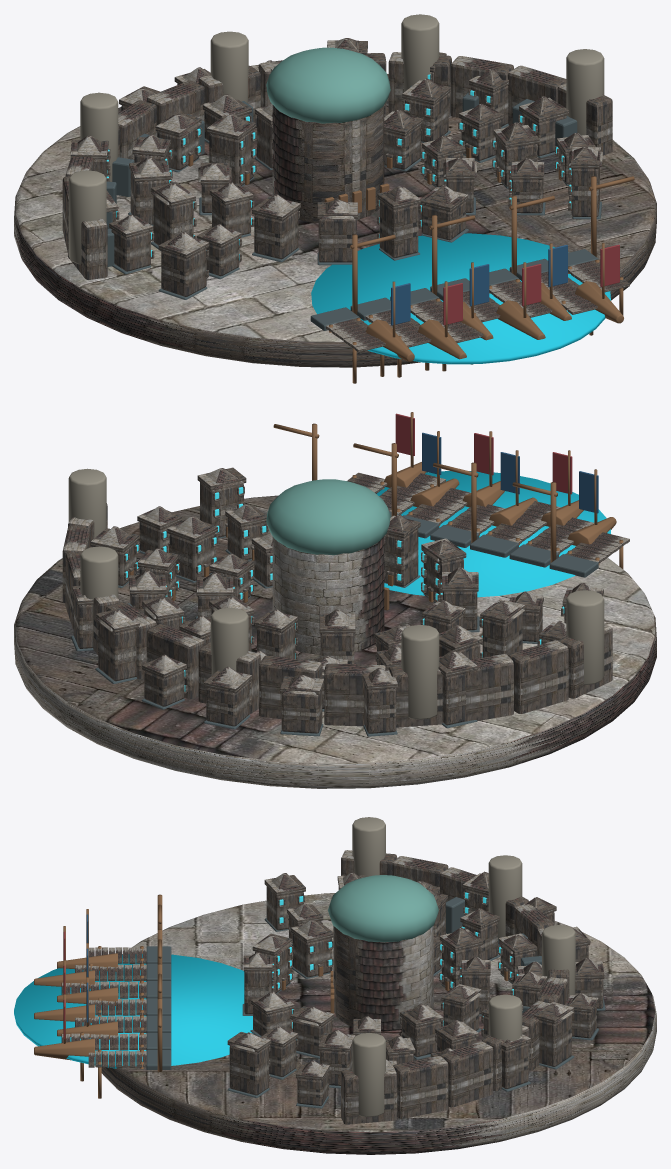
The model's file is thaylen-city.glb.
3 views of the same model, one above another, from view 1: azimuth 30°, elevation 25°; view 2: azimuth 150°, elevation 25°; view 3: azimuth 270°, elevation 25° (orthographic). The views are drawn at different scales.
Visible parts, largest first — view 1: ThaylenCity_CoastalFoundation, ThaylenCity_HarborBasin, ThaylenCity_ExchangeHall, ThaylenCity_ExchangeDome, ThaylenCity_SeawallTower_01, ThaylenCity_SeawallTower_13, ThaylenCity_SeawallTower_10, ThaylenCity_SeawallButtressBatch, ThaylenCity_SeawallTower_07, ThaylenCity_SeawallTower_04, ThaylenCity_MerchantQuarter_1_10_Building, ThaylenCity_MerchantQuarter_3_11_Building (+65 smaller); view 2: ThaylenCity_CoastalFoundation, ThaylenCity_ExchangeHall, ThaylenCity_ExchangeDome, ThaylenCity_HarborBasin, ThaylenCity_Seawall_02, ThaylenCity_SeawallTower_04, ThaylenCity_Seawall_03, ThaylenCity_SeawallTower_01, ThaylenCity_Seawall_05, ThaylenCity_SeawallTower_07, ThaylenCity_Seawall_08, ThaylenCity_Seawall_06 (+66 smaller); view 3: ThaylenCity_CoastalFoundation, ThaylenCity_HarborBasin, ThaylenCity_ExchangeHall, ThaylenCity_ExchangeDome, ThaylenCity_Seawall_12, ThaylenCity_Seawall_11, ThaylenCity_SeawallTower_13, ThaylenCity_SeawallTower_04, ThaylenCity_Seawall_13, ThaylenCity_SeawallTower_01, ThaylenCity_MerchantQuarter_3_18_Building, ThaylenCity_SeawallTower_07 (+54 smaller).
Boxes of the visible parts, x1,y1,x2,y2 form: ThaylenCity_CoastalFoundation: (14,74,656,367); ThaylenCity_HarborBasin: (311,233,610,364); ThaylenCity_ExchangeHall: (272,105,384,222); ThaylenCity_ExchangeDome: (266,47,390,123); ThaylenCity_SeawallTower_01: (68,170,106,264); ThaylenCity_SeawallTower_13: (566,49,604,135); ThaylenCity_SeawallTower_10: (401,14,439,102); ThaylenCity_SeawallButtressBatch: (106,85,577,266); ThaylenCity_SeawallTower_07: (210,31,248,103); ThaylenCity_SeawallTower_04: (80,92,118,181); ThaylenCity_MerchantQuarter_1_10_Building: (379,200,418,257); ThaylenCity_MerchantQuarter_3_11_Building: (161,249,206,296); ThaylenCity_CoastalFoundation: (14,495,656,788); ThaylenCity_ExchangeHall: (272,536,384,654); ThaylenCity_ExchangeDome: (266,479,390,555); ThaylenCity_HarborBasin: (377,471,610,597); ThaylenCity_Seawall_02: (508,640,568,713); ThaylenCity_SeawallTower_04: (401,624,439,719); ThaylenCity_Seawall_03: (461,654,513,722); ThaylenCity_SeawallTower_01: (566,590,604,684); ThaylenCity_Seawall_05: (324,663,386,726); ThaylenCity_SeawallTower_07: (210,607,248,675); ThaylenCity_Seawall_08: (146,623,204,698); ThaylenCity_Seawall_06: (259,655,322,719); ThaylenCity_CoastalFoundation: (101,893,656,1154); ThaylenCity_HarborBasin: (14,954,253,1068); ThaylenCity_ExchangeHall: (333,926,433,1031); ThaylenCity_ExchangeDome: (328,875,438,942); ThaylenCity_Seawall_12: (393,1056,448,1118); ThaylenCity_Seawall_11: (440,1041,493,1107); ThaylenCity_SeawallTower_13: (352,1032,385,1116); ThaylenCity_SeawallTower_04: (488,855,522,938); ThaylenCity_Seawall_13: (341,1066,397,1124); ThaylenCity_SeawallTower_01: (352,817,385,876); ThaylenCity_MerchantQuarter_3_18_Building: (229,1045,268,1095); ThaylenCity_SeawallTower_07: (542,925,575,996).
Bounding box in the file's own units: 10.5 × 3.17 × 11.8.
9 materials, 1 textured.
